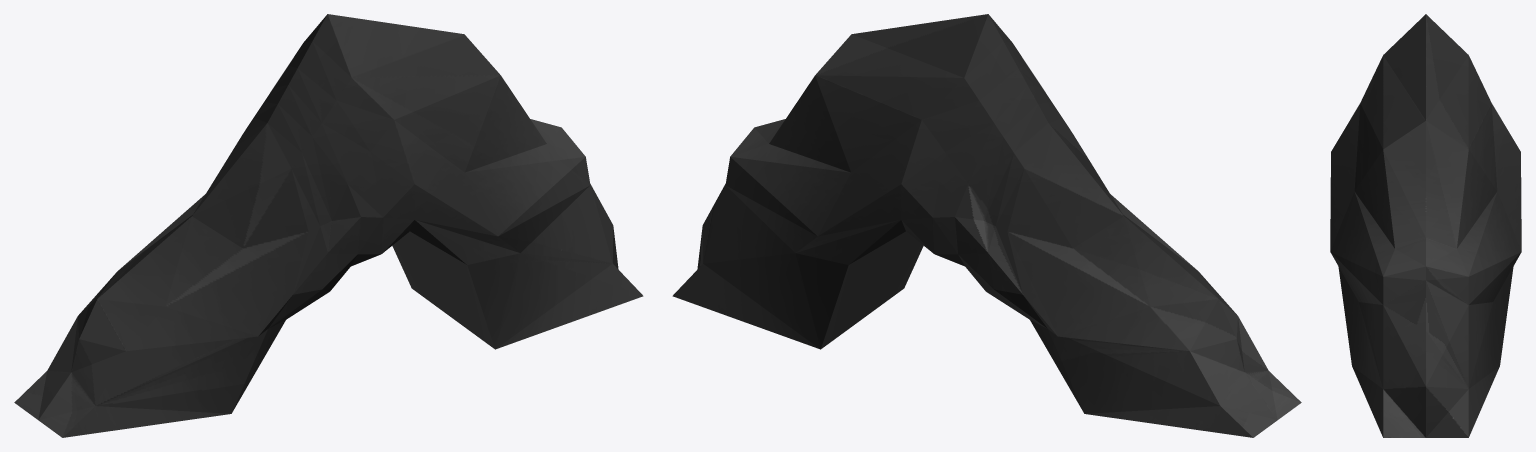
File: rockBlock.obj
The picture shows the model from 3 angles, left to right: view 1: azimuth 30°, elevation 25°; view 2: azimuth 150°, elevation 25°; view 3: azimuth 270°, elevation 25°; orthographic projection. The views are drawn at different scales.
Parts seen in each view (by area): view 1: Cube; view 2: Cube; view 3: Cube.
Part boxes in pixels (x1=…): Cube: x1=14, y1=14, x2=643, y2=437; Cube: x1=672, y1=14, x2=1301, y2=437; Cube: x1=1330, y1=14, x2=1521, y2=437.
Bounding box in the file's own units: 13.91 × 7.68 × 4.48.
Materials: 1 (1 with a texture image).
